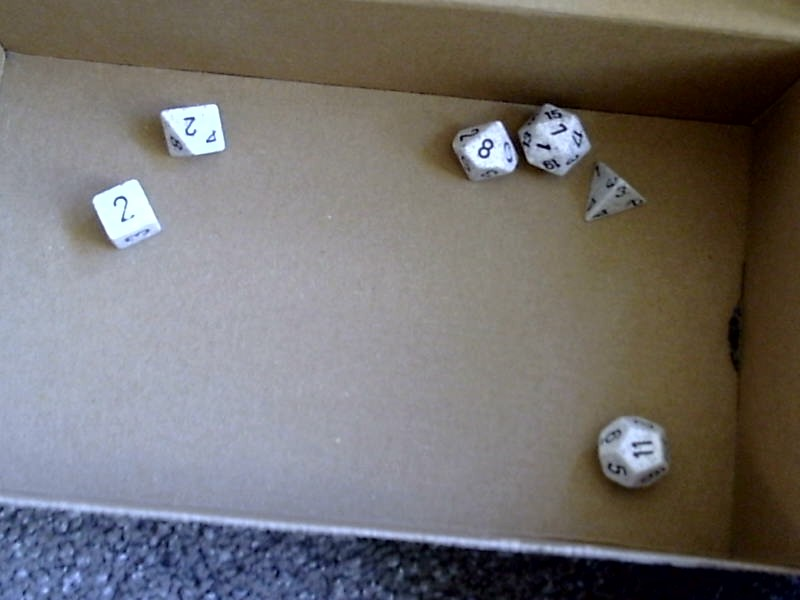d10 8: (445, 115, 519, 182)
d12 11: (593, 410, 672, 492)
d20 7: (520, 92, 590, 178)
d4 3: (584, 162, 642, 226)
d6 2: (83, 173, 164, 252)
d8 2: (149, 95, 228, 162)
